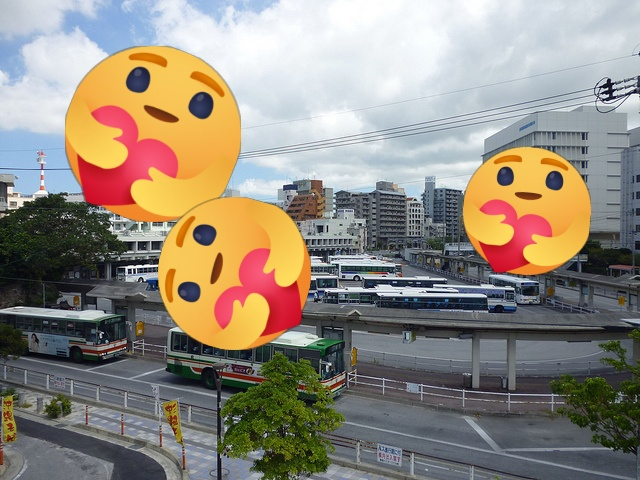care: (65, 46, 241, 222), (158, 197, 311, 350), (463, 147, 591, 275)
